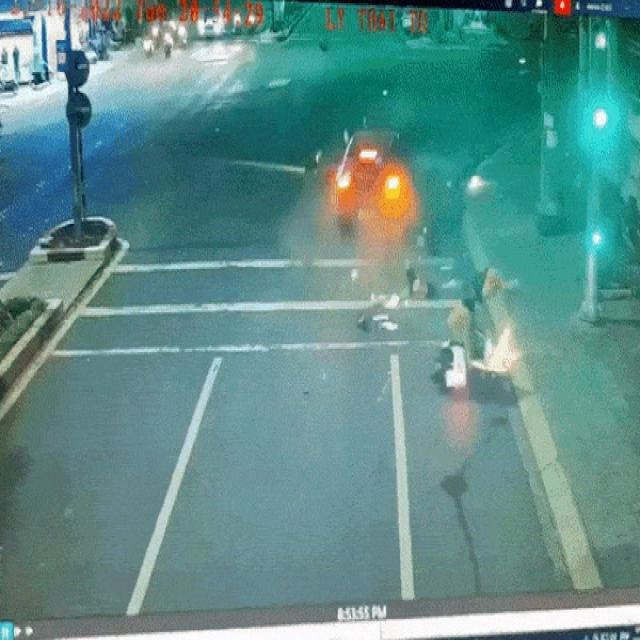multiple_accident: (297, 111, 524, 406)
